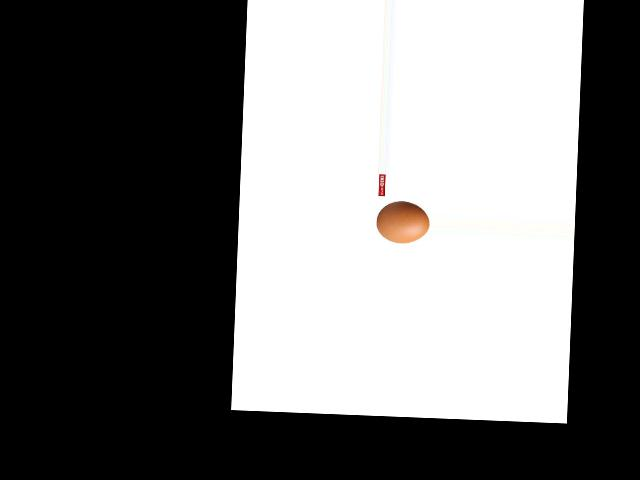egg: (375, 200, 429, 244)
